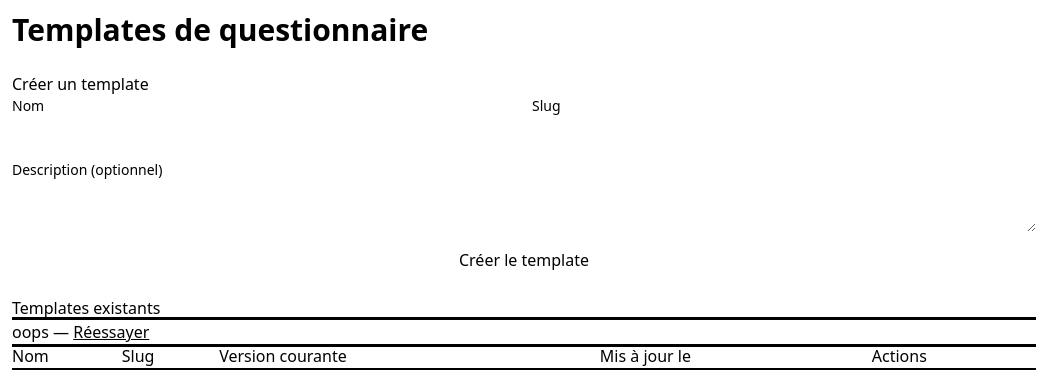
AdminTemplatesView › shows a retry button when initial list fails with a network error
This screenshot has width=1048, height=387.
Click the button with class "underline".
click(111, 332)  # box left=73, top=320, right=149, bottom=344
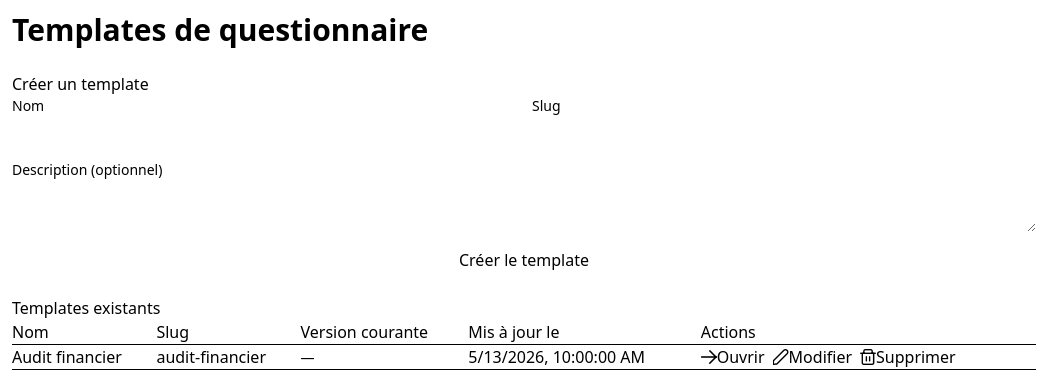
Expected: the text "audit-financier" is shown, left=156, top=345, right=300, bottom=370
